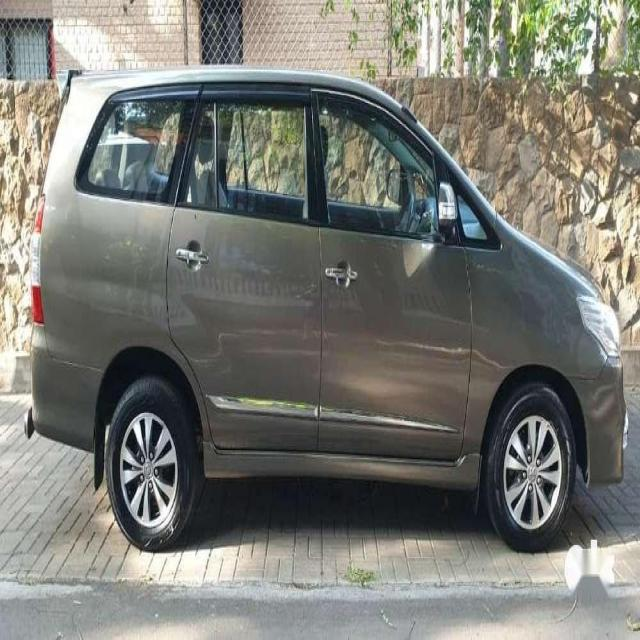light_vehicle: (24, 66, 629, 556)
